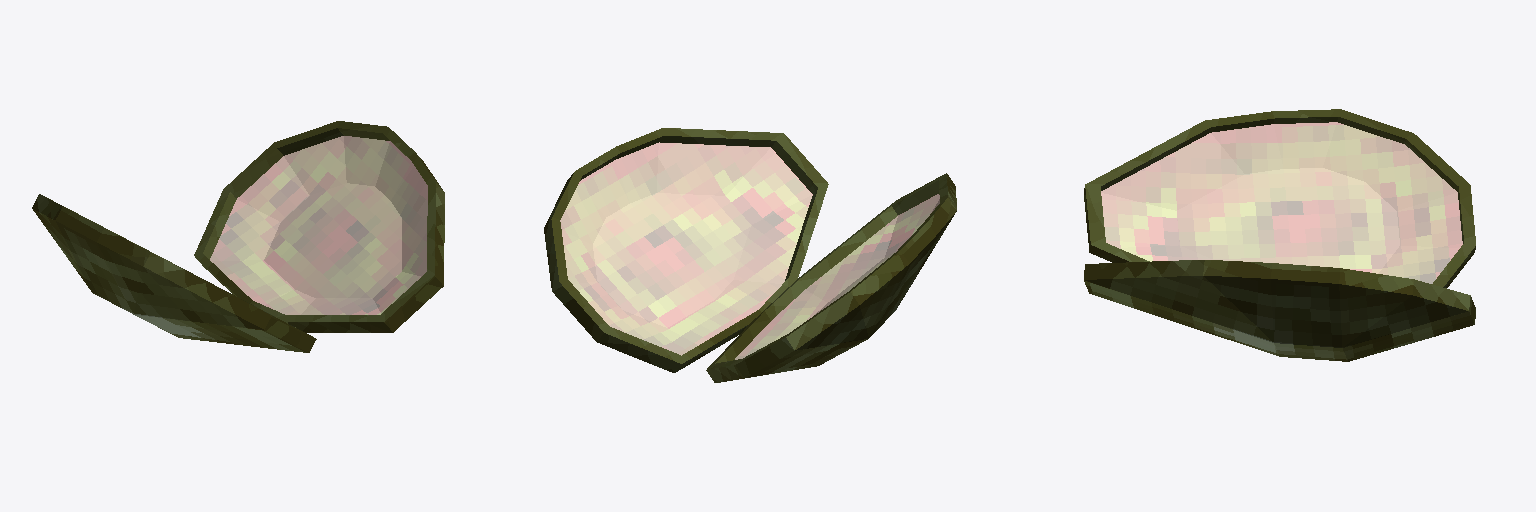
The picture shows the model from 3 angles: view 1: azimuth 30°, elevation 25°; view 2: azimuth 150°, elevation 25°; view 3: azimuth 270°, elevation 25°; orthographic projection.
Parts seen in each view (by area): view 1: Cube; view 2: Cube; view 3: Cube.
Boxes of the visible parts, x1=… form: Cube: x1=32, y1=121, x2=444, y2=352; Cube: x1=544, y1=128, x2=956, y2=382; Cube: x1=1084, y1=109, x2=1475, y2=361.
Bounding box in the file's own units: 2.29 × 0.881 × 2.28.
Materials: 1 (1 with a texture image).